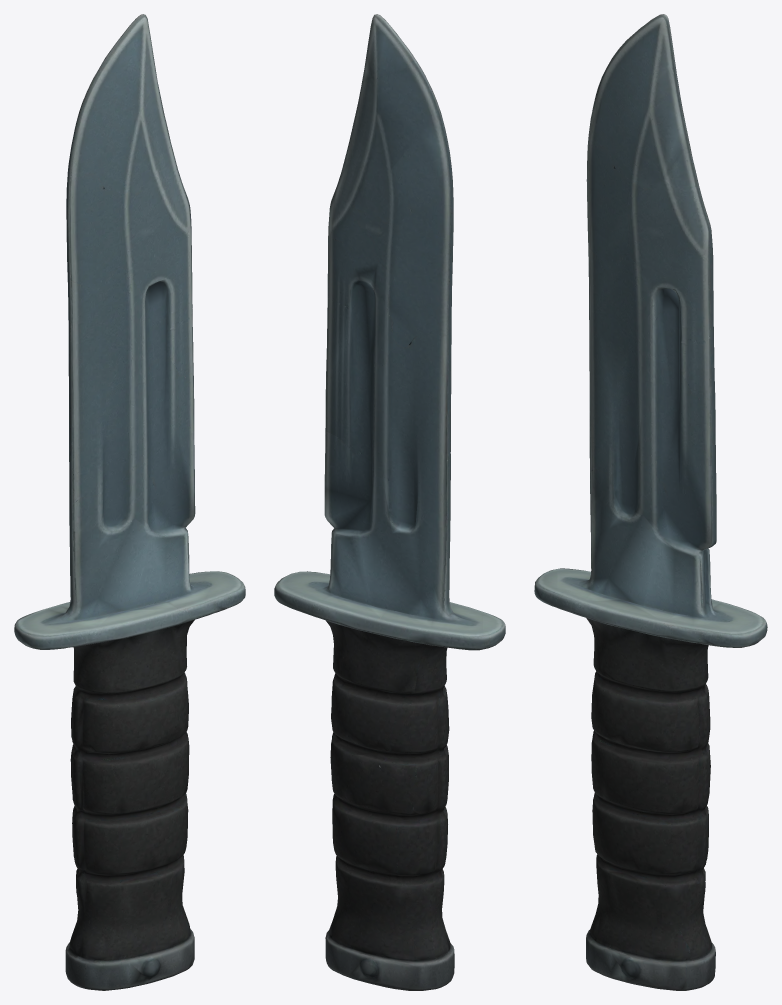
File: knife.glb
3 views of the same model, side by side, from view 1: azimuth 30°, elevation 25°; view 2: azimuth 150°, elevation 25°; view 3: azimuth 330°, elevation 25° (orthographic).
Bounding box in the file's own units: 0.4594 × 1.9 × 0.1608.
1 material, 1 textured.
